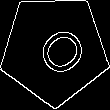O_SW: (23, 17, 87, 82)
